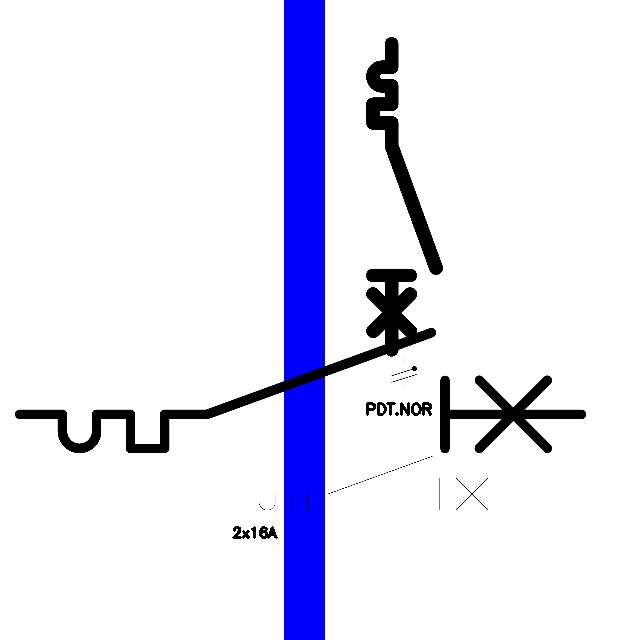interruptor_termomagnetico: (5, 318, 596, 463), (365, 36, 443, 358), (232, 449, 511, 517)
